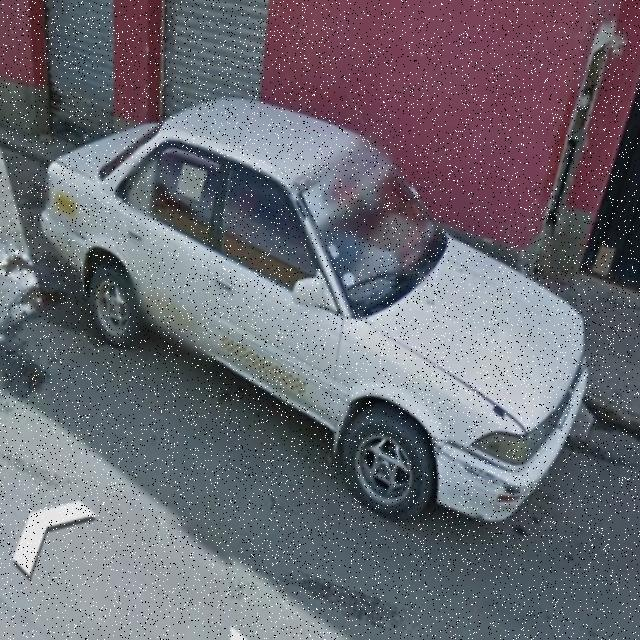cars: (39, 89, 591, 513)
